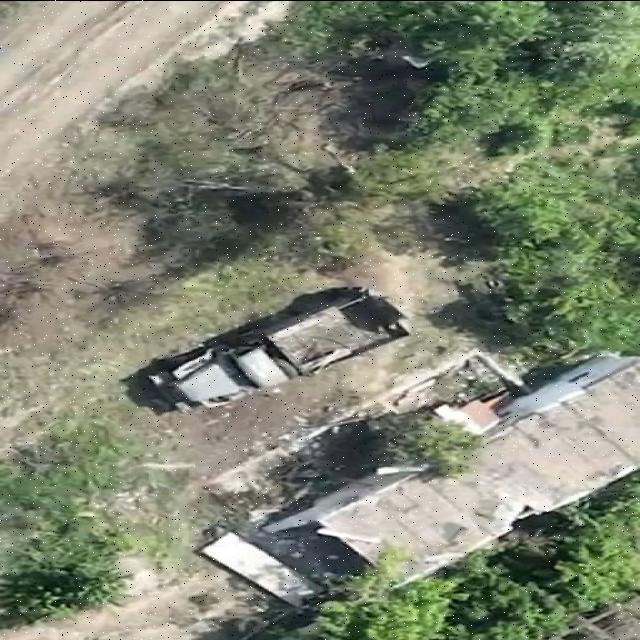TRUCK: (138, 282, 418, 416)
